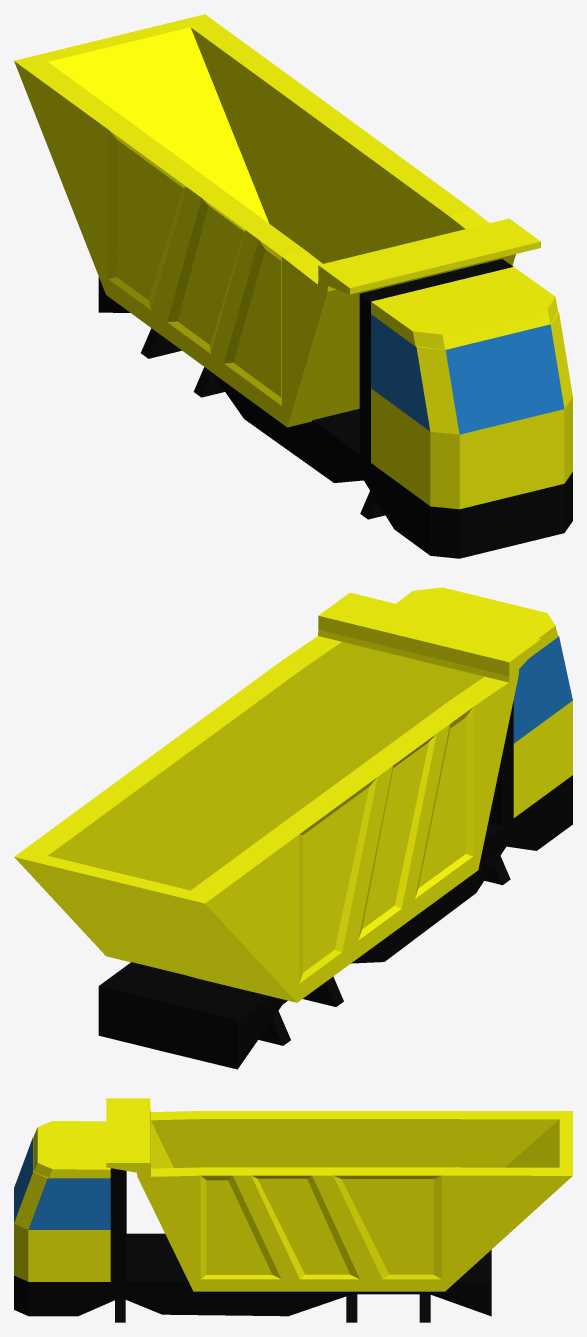
The model's file is dump_truck.obj.
The picture shows the model from 3 angles, top to bottom: view 1: azimuth 30°, elevation 25°; view 2: azimuth 150°, elevation 25°; view 3: azimuth 270°, elevation 25°; orthographic projection. The views are drawn at different scales.
Parts seen in each view (by area): view 1: Truck; view 2: Truck; view 3: Truck.
Boxes of the visible parts, x1,y1,x2,y2 form: Truck: (14,14,572,558); Truck: (14,587,572,1069); Truck: (14,1098,572,1322).
Bounding box in the file's own units: 2.68 × 3.24 × 9.78.
